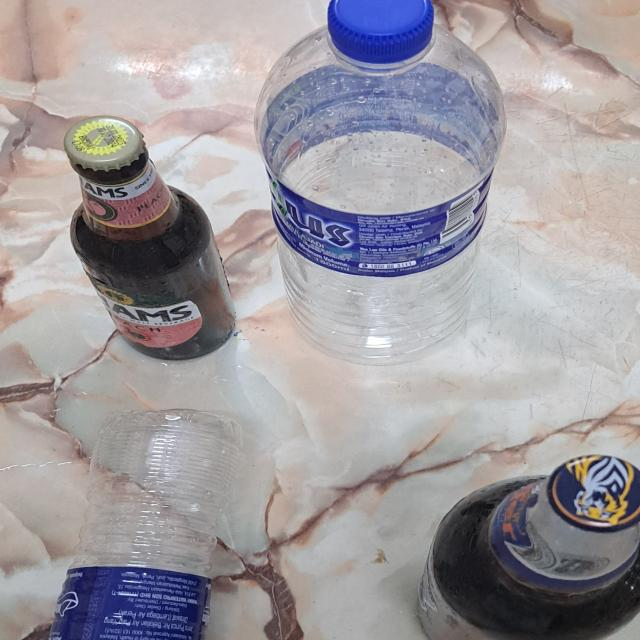glass bottle: (65, 111, 238, 361), (421, 450, 640, 640)
plastic bottle: (255, 0, 511, 366), (56, 406, 245, 640)
plastic bottle cap: (326, 0, 434, 66)
